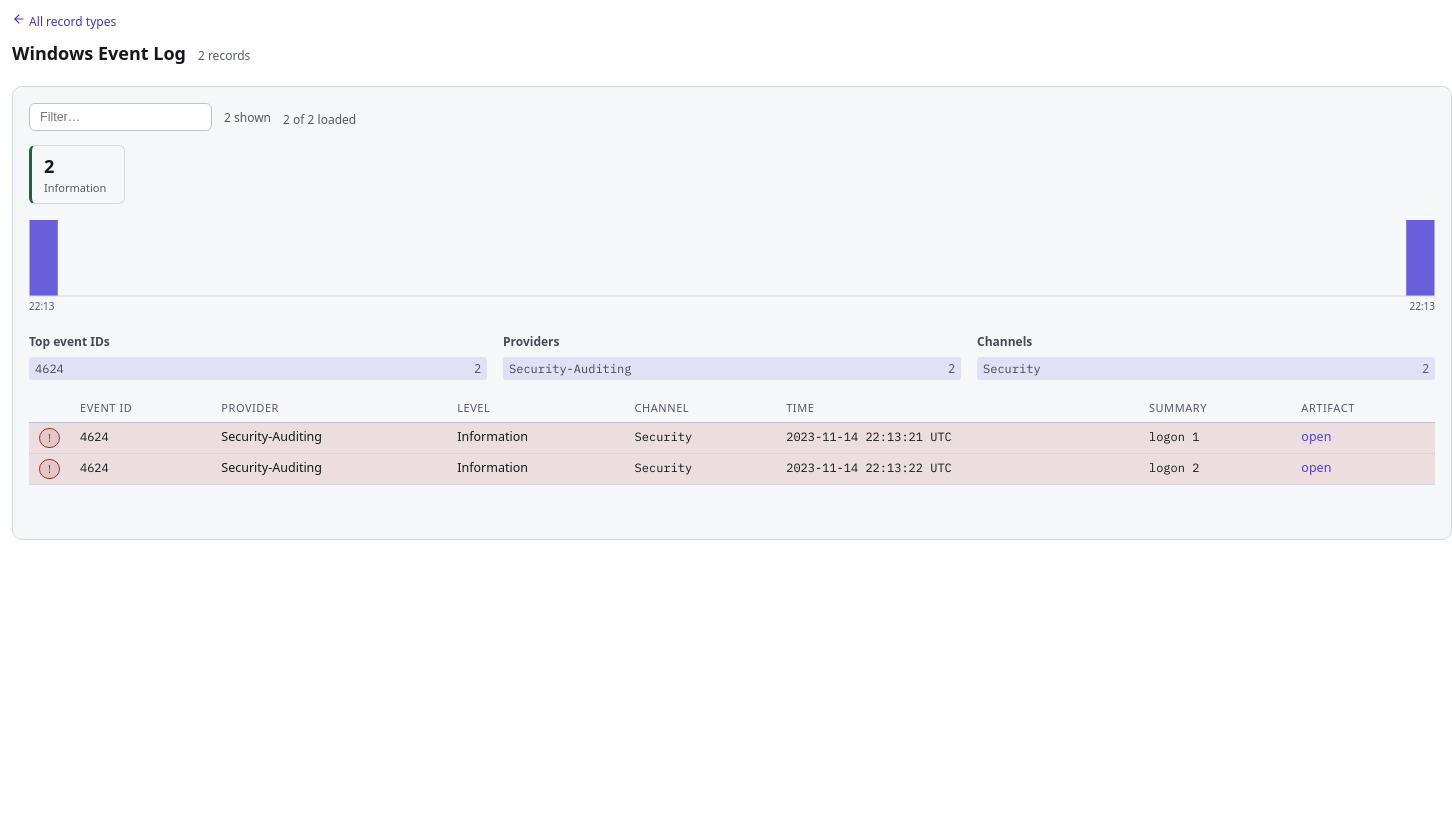
Test: rich record viewer: the Filter box queries the case › says how the server matched, because it folds ASCII case only
This screenshot has width=1452, height=822.
Type "logon" into the field named "Filter ".
click(120, 118); type("logon")  # box [29,104,212,132]
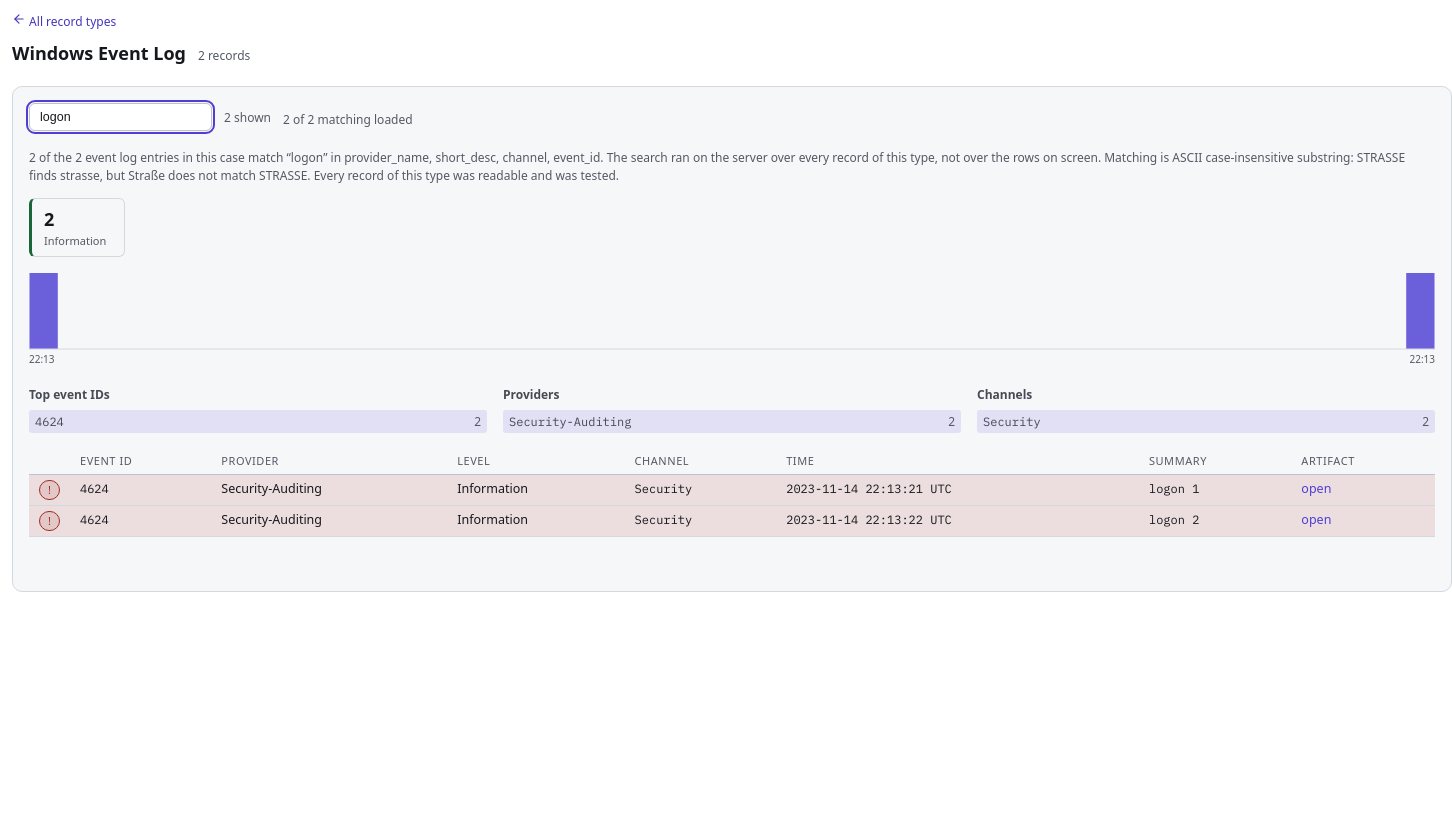
Expected: the text with test id "rv-search-scope" shows "ASCII", [29,150,1405,184]
